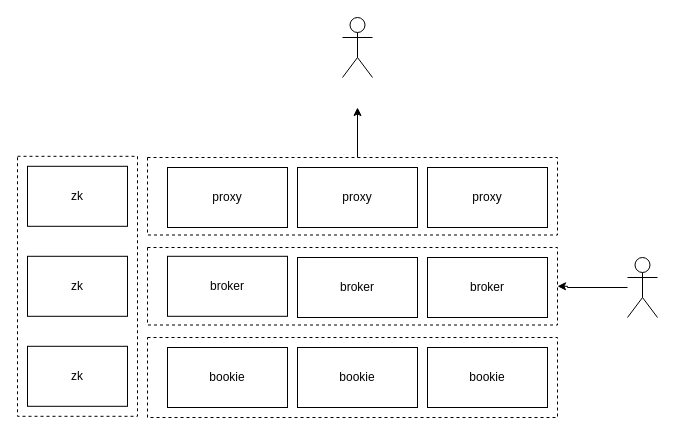
Image size: 683x435. Some labels were removed from this diagram. Here are the shapes that lost their labels. From the top down, the box of each, then its label:
(342, 16, 372, 78): consumer
(626, 256, 658, 318): producer
